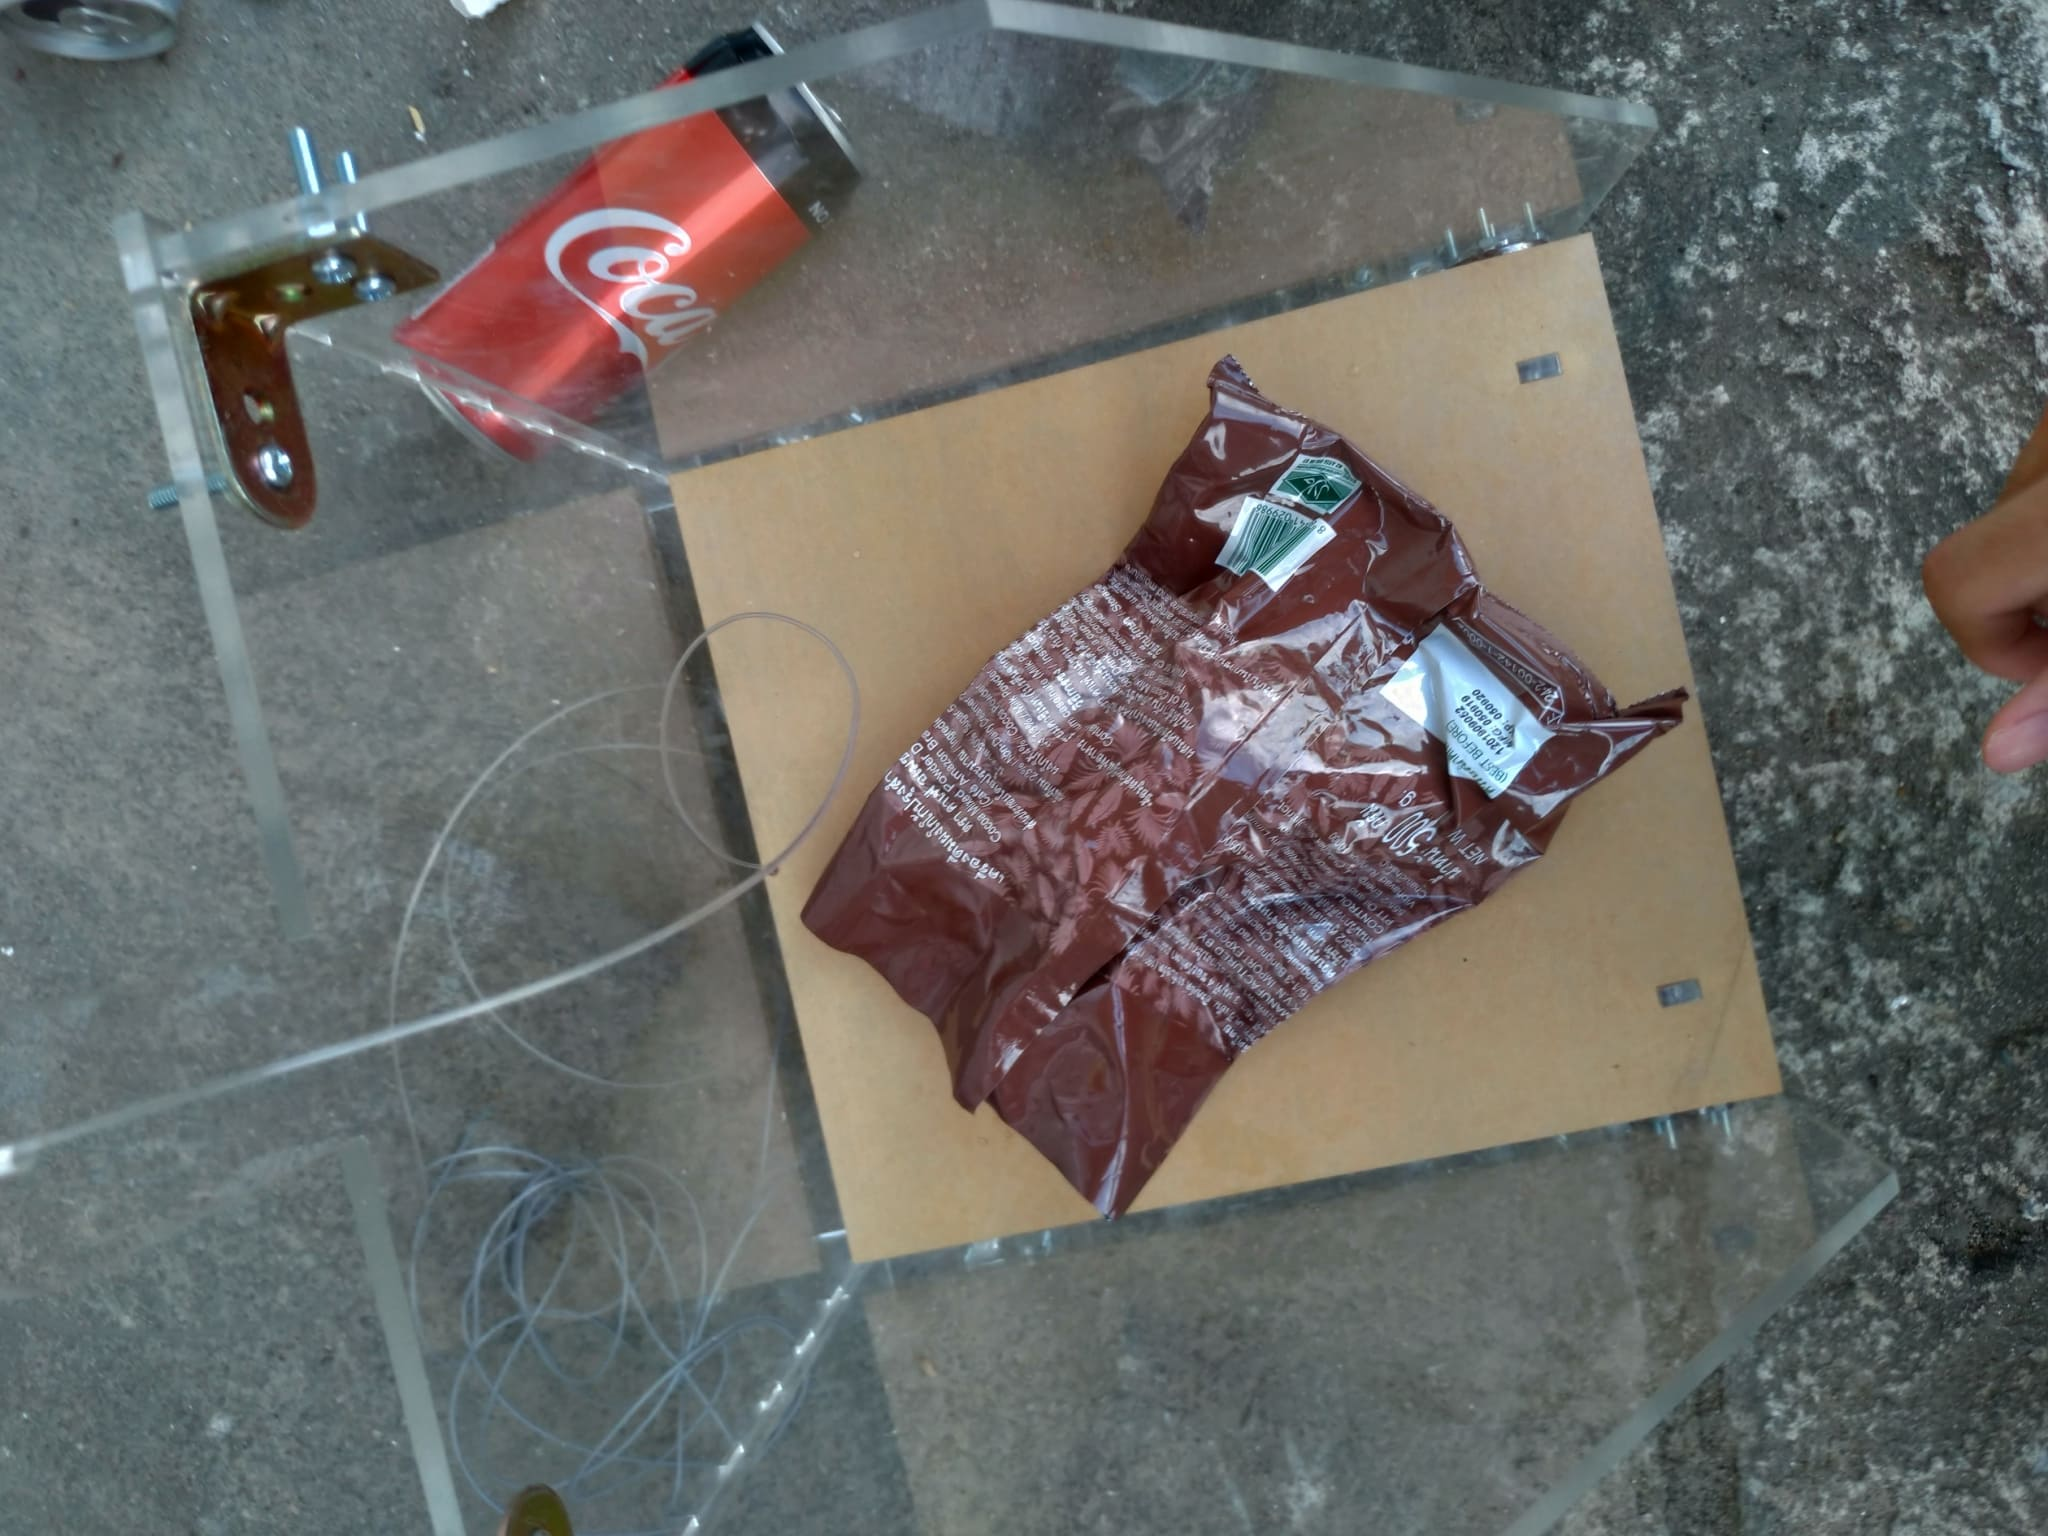AlCan: (397, 26, 869, 479)
Others: (797, 357, 1680, 1225)
